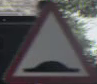Speed Breaker ahead: (6, 11, 85, 73)
